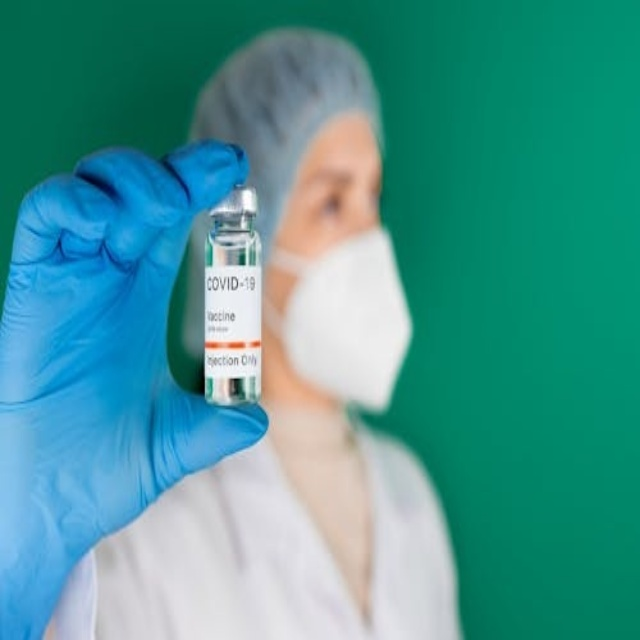Guantes: (0, 139, 266, 640)
Mascara: (260, 225, 413, 413)
Sin_gafas: (288, 165, 392, 233)
